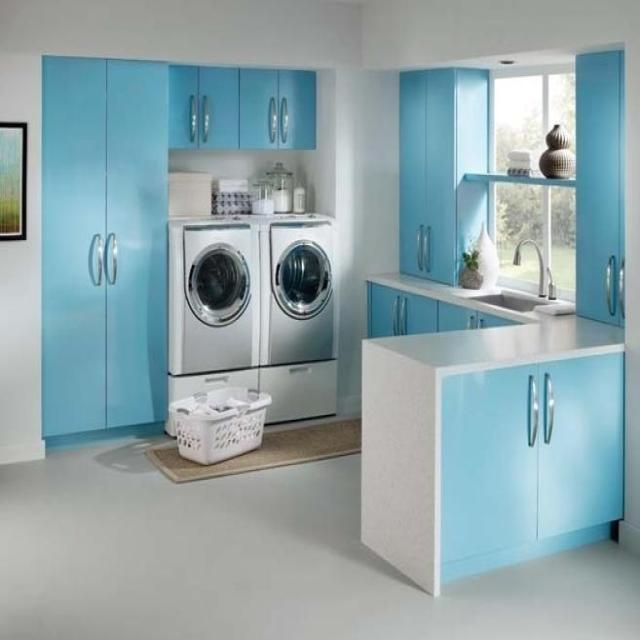E-waste: (164, 207, 348, 409)
Plastics: (170, 396, 271, 462)
